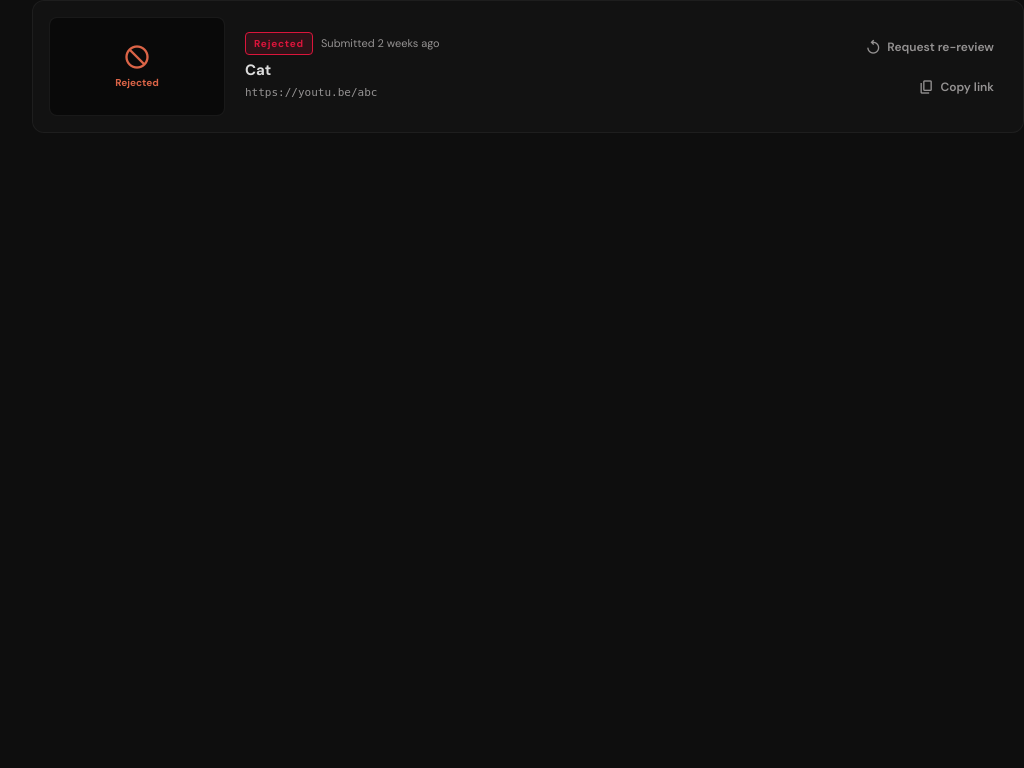
Test: SuggestionCard re-review › sends the trimmed message and invalidates suggestions
Click the button "Request re-review" at (930, 46), box [852,30,1007,62]
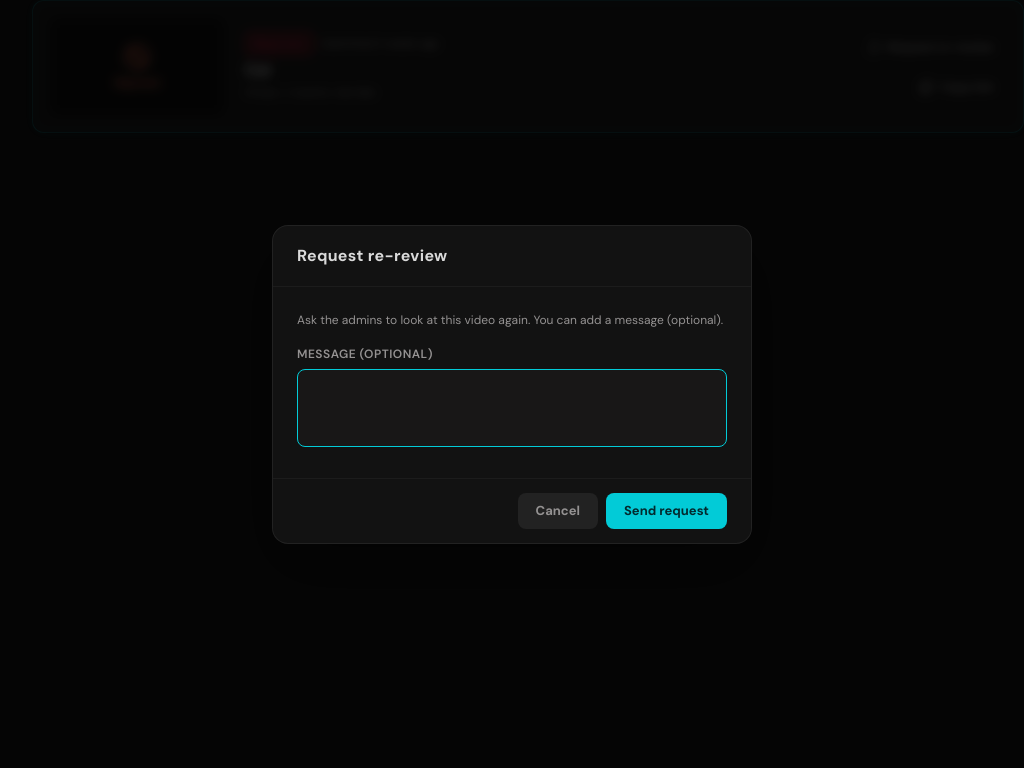
Type "  please look again  " into the text box labelled "Message (optional)" at (512, 408), box [297,368,727,447]
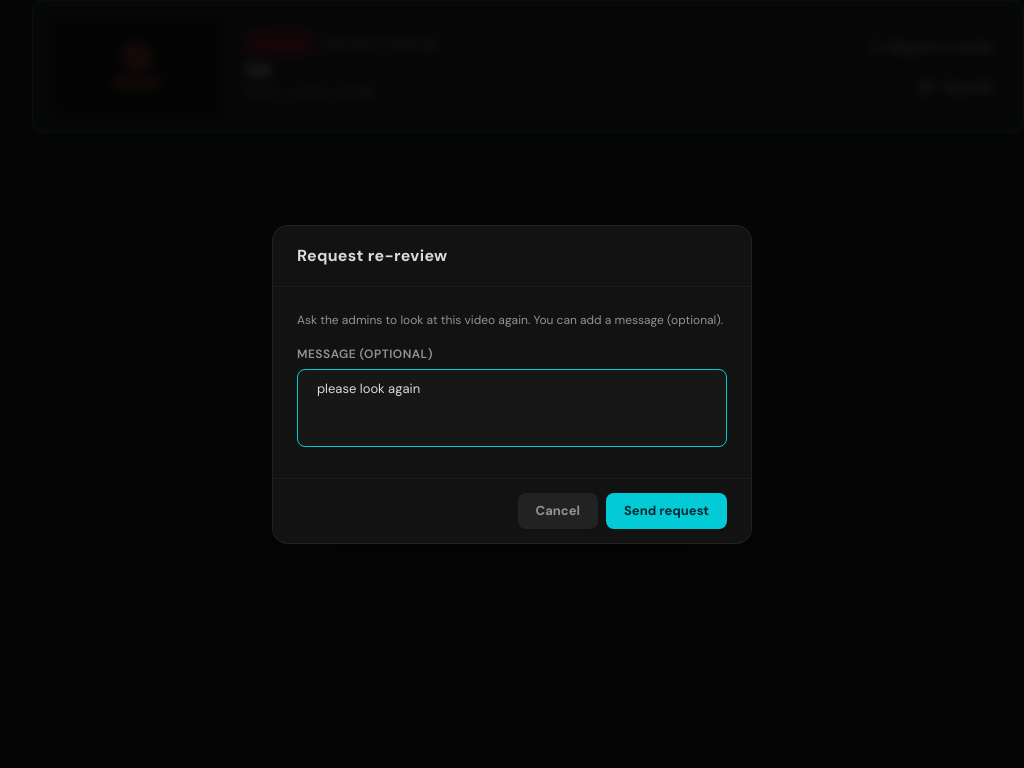
Click the button "Send request" at (666, 511), box [606,493,727,528]
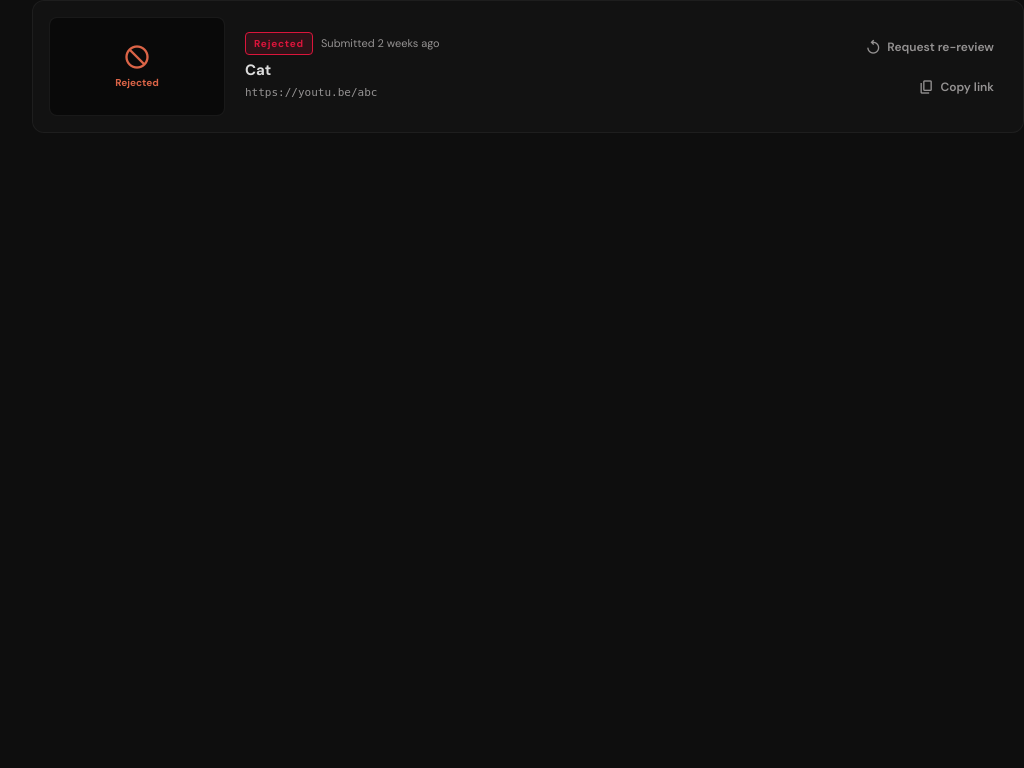
expect the dialog is gone: met
